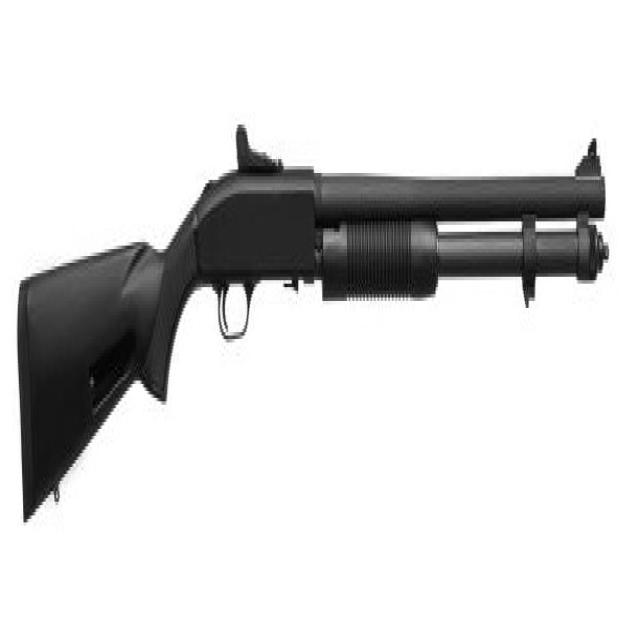rifle: (12, 105, 614, 542)
